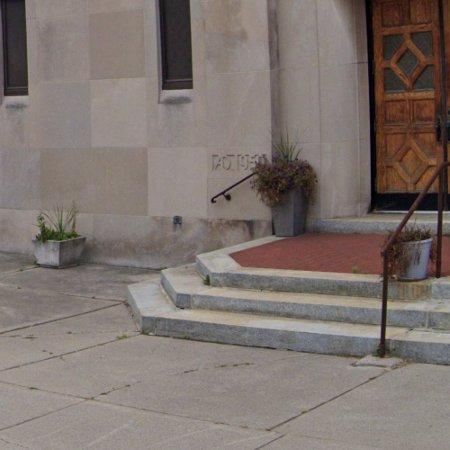stairs: (129, 237, 382, 357), (388, 279, 450, 365)
